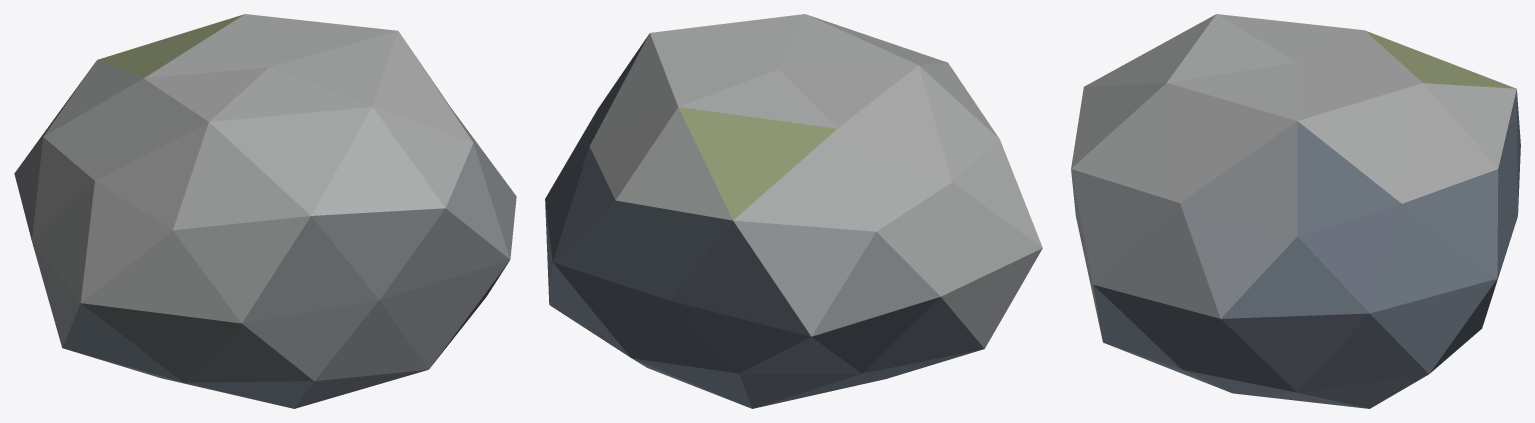
Rendered from boulder_b.glb.
3 renders of one model, left to right at view 1: azimuth 30°, elevation 25°; view 2: azimuth 150°, elevation 25°; view 3: azimuth 270°, elevation 25°, orthographic.
Parts seen in each view (by area): view 1: boulder_b; view 2: boulder_b; view 3: boulder_b.
Boxes of the visible parts, x1,y1,x2,y2 form: boulder_b: (14,14,516,408); boulder_b: (545,14,1042,408); boulder_b: (1071,14,1520,408).
Size of the model in its own units: 1.34 by 0.969 by 1.19.
